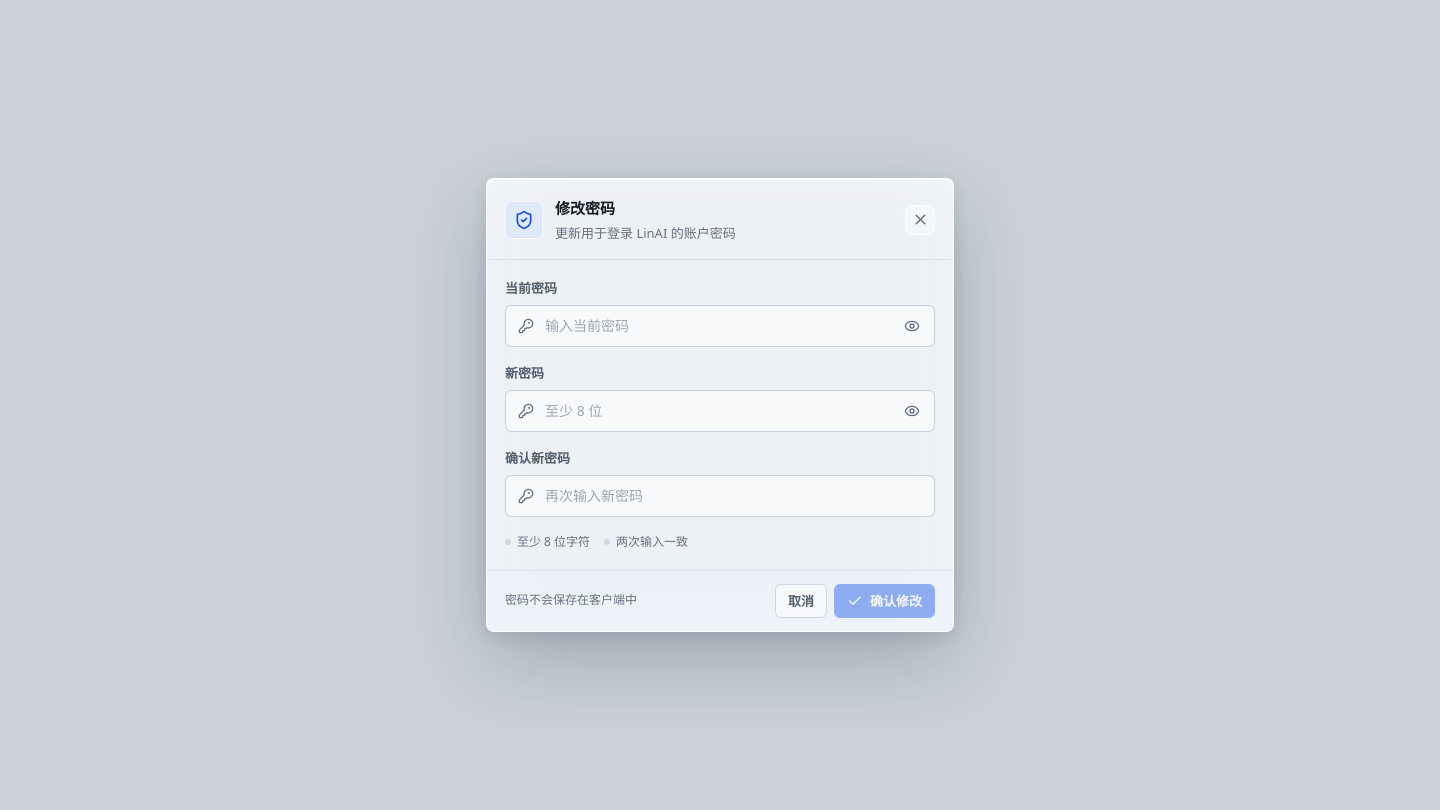
Test: ChangePasswordDialog › does not submit when the confirmation does not match
Type "current-password" into the password field with test id "current-password".
click(717, 326); type("current-password")  # box [543, 314, 891, 338]
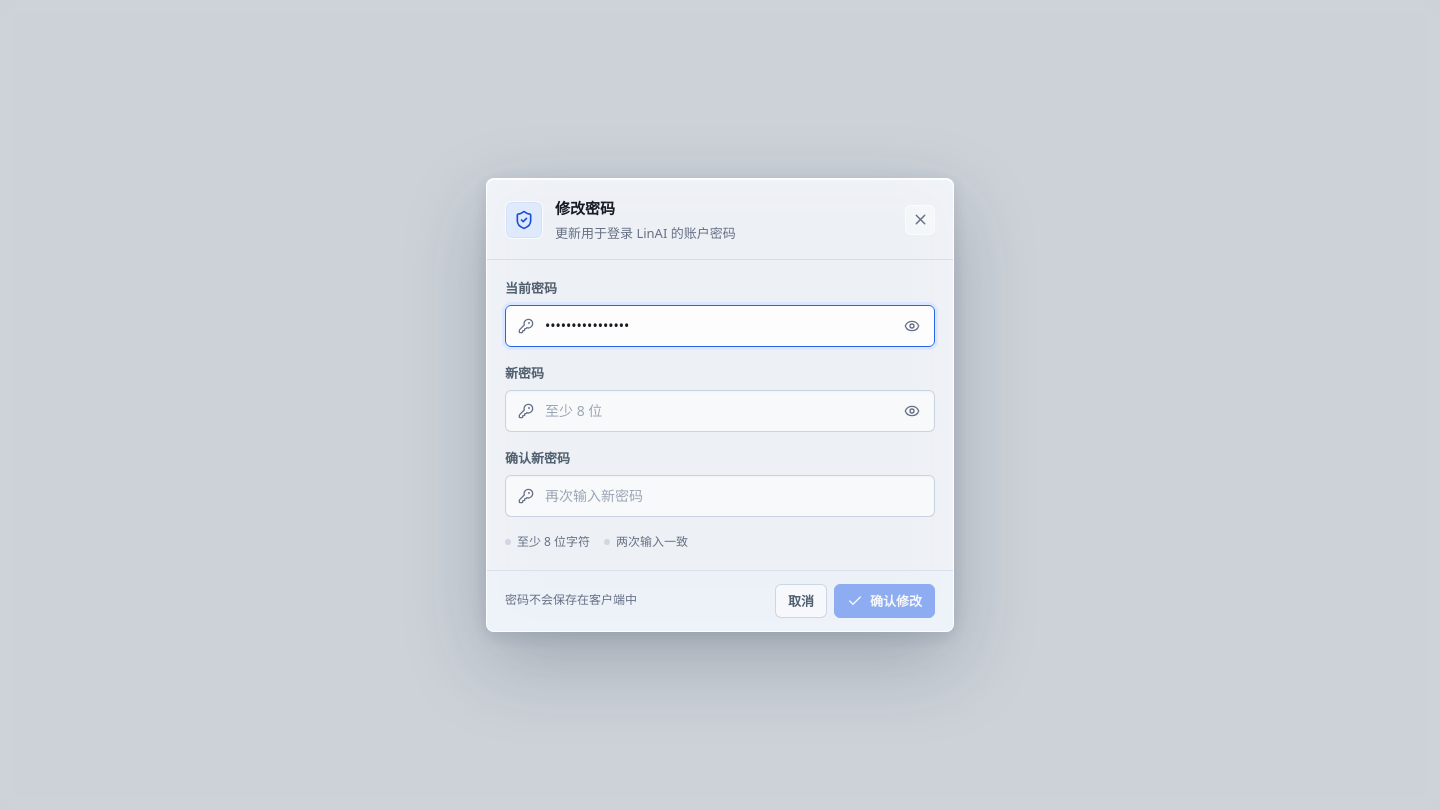
Type "new-password-123" into the password field with test id "new-password".
click(717, 411); type("new-password-123")  # box [543, 399, 891, 423]
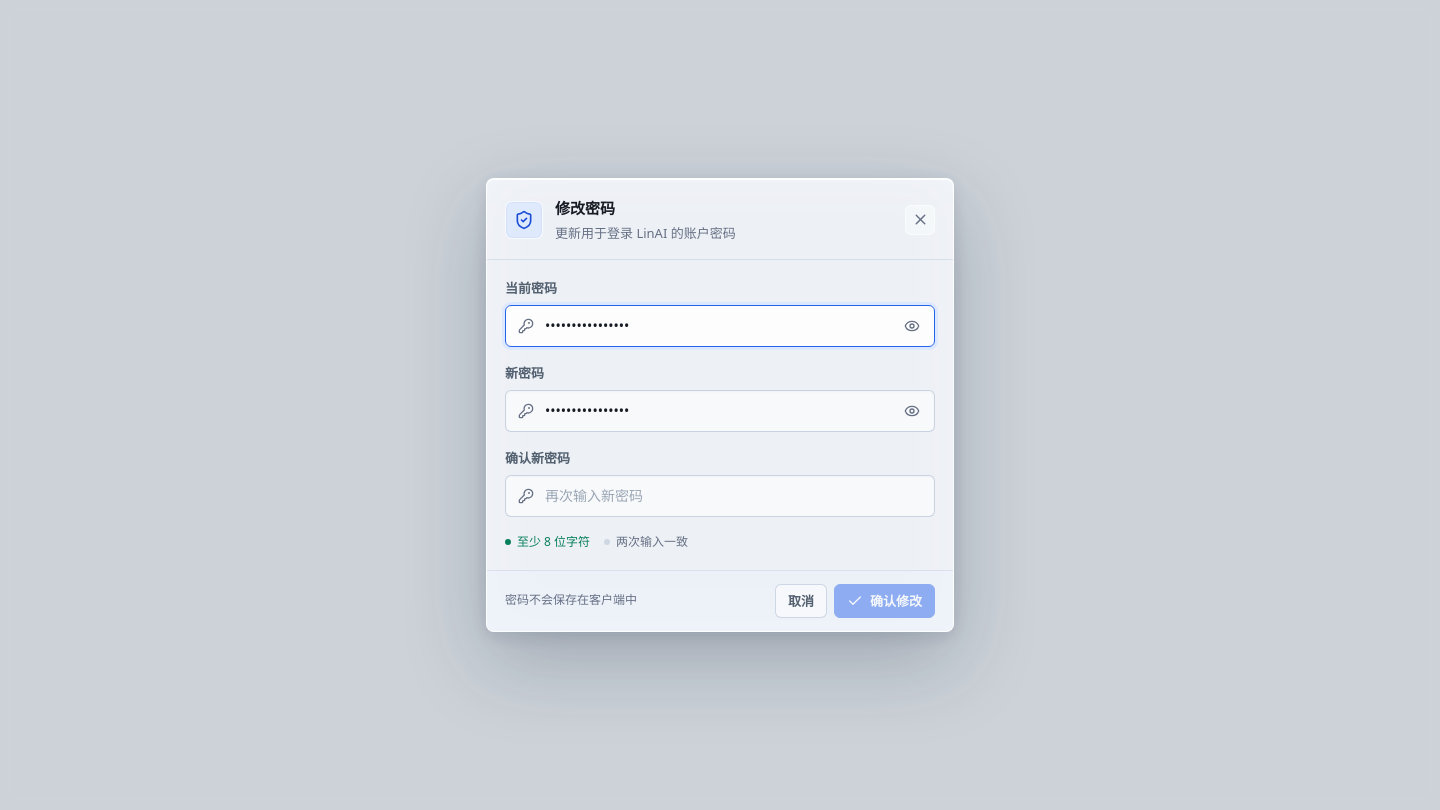
Type "different-password" into the password field with test id "confirm-password".
click(734, 496); type("different-password")  # box [543, 484, 924, 508]
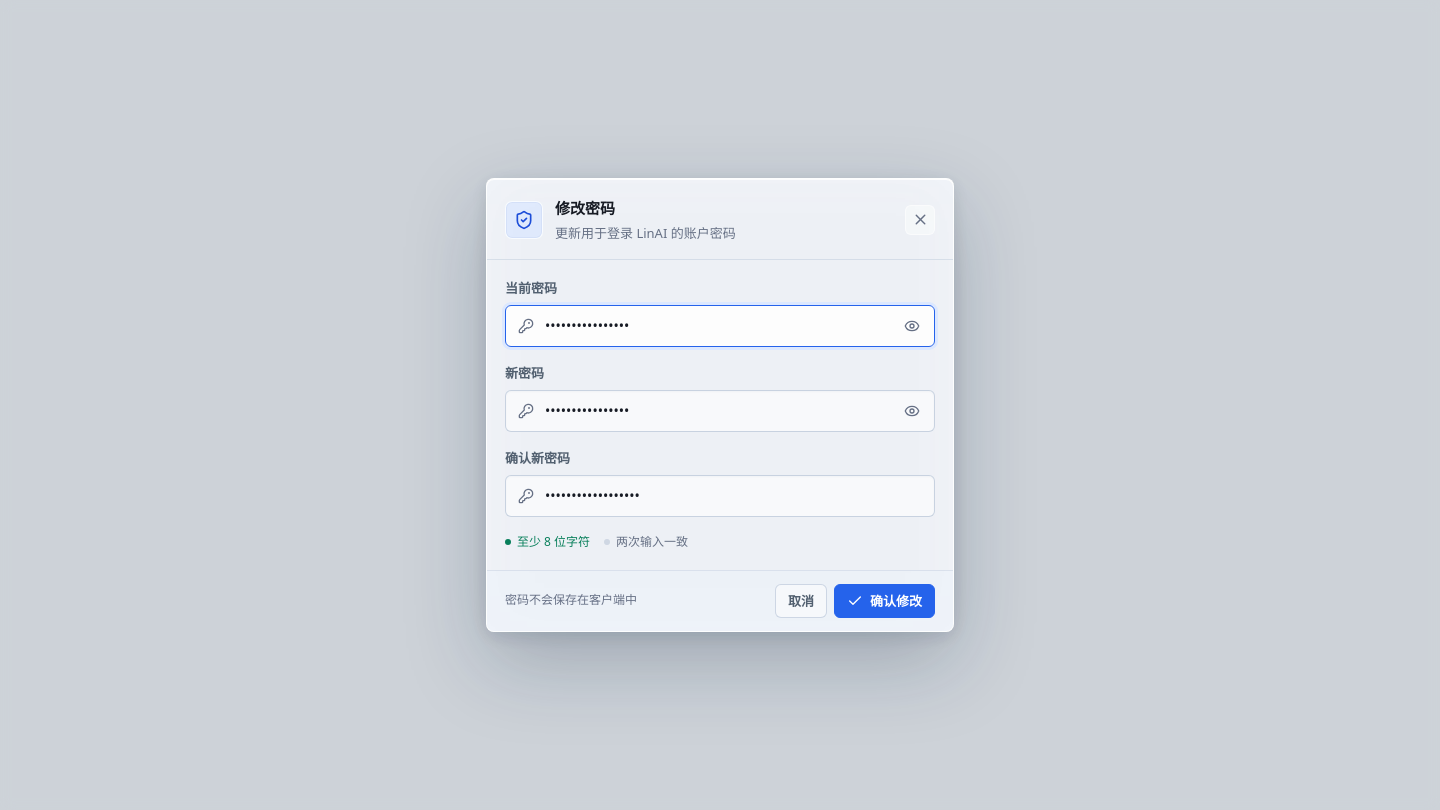
Submit the form, box [487, 260, 953, 631]
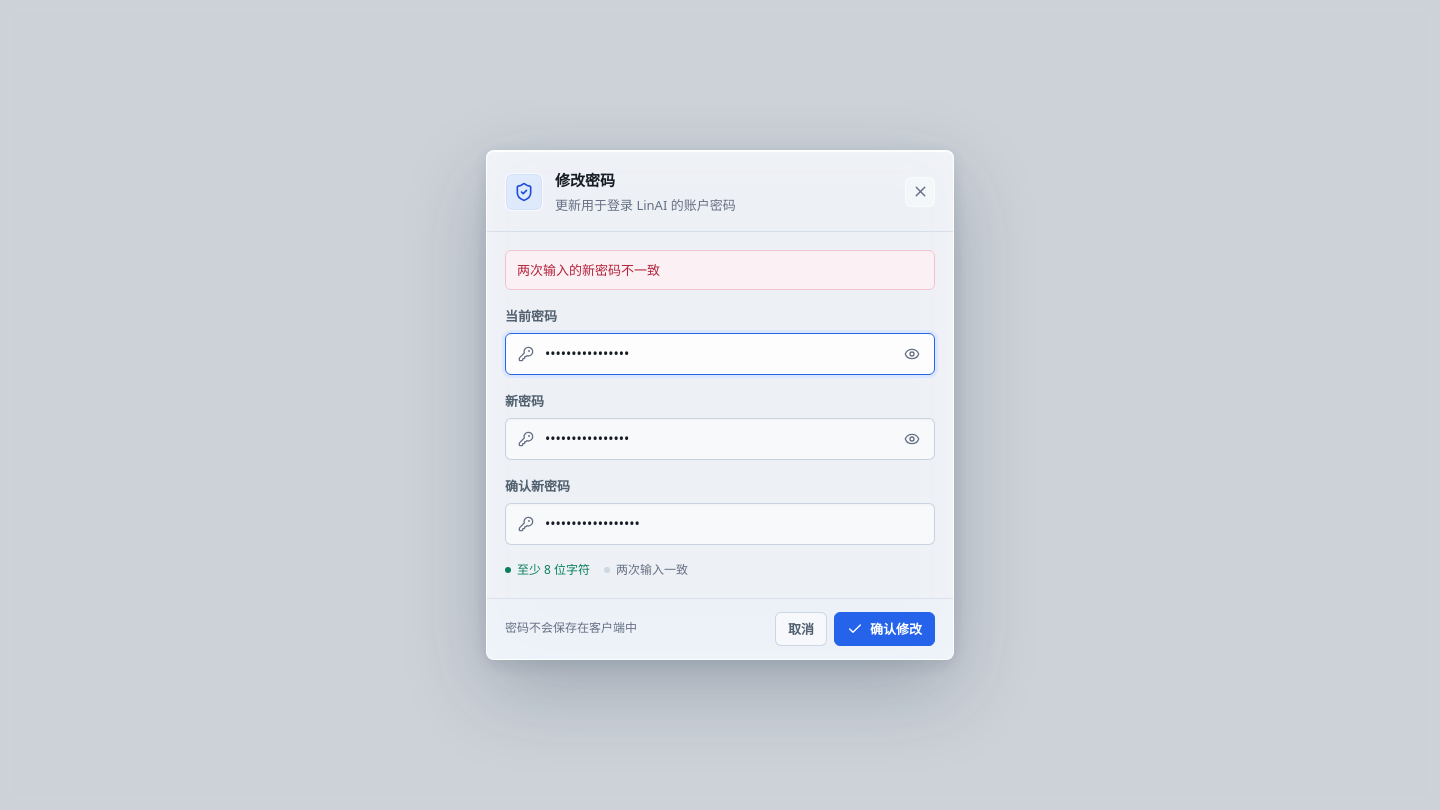
Check: the text "两次输入的新密码不一致" is shown, box [505, 250, 935, 290]
